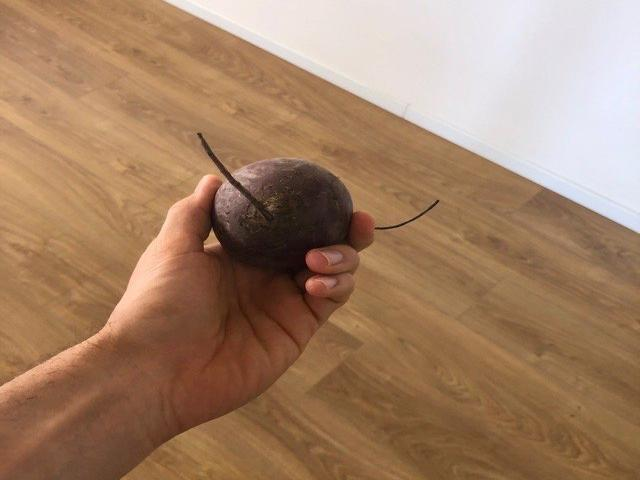beet: (198, 133, 440, 270)
